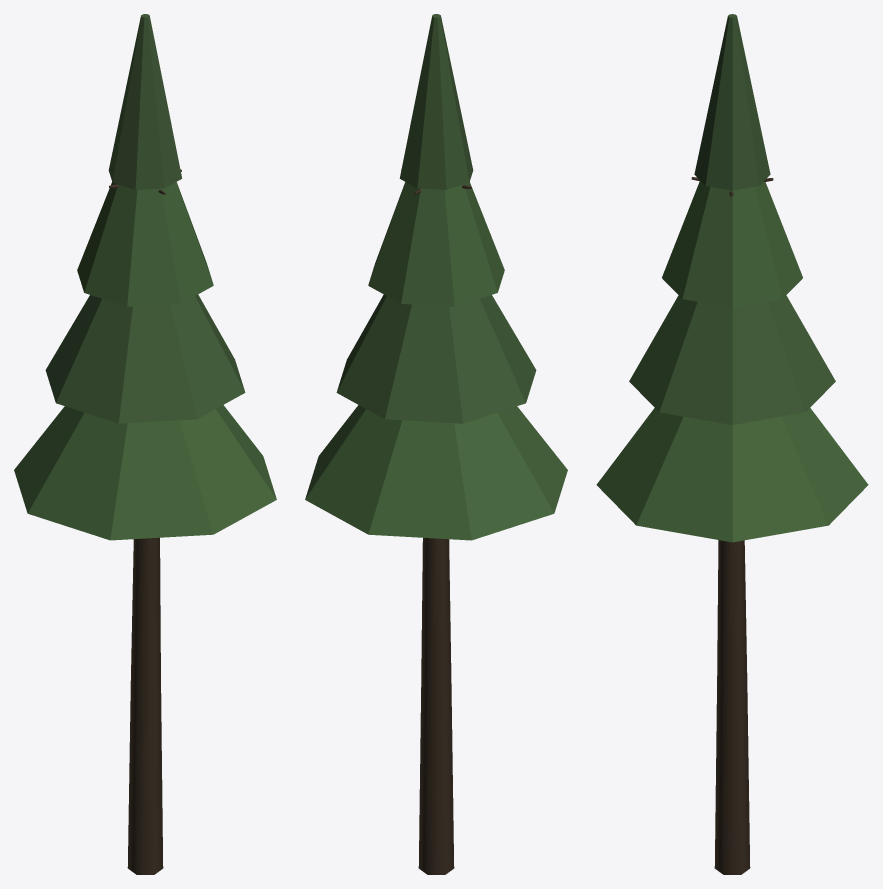
The model's file is land-forest-01.glb.
3 renders of one model, left to right at view 1: azimuth 30°, elevation 25°; view 2: azimuth 150°, elevation 25°; view 3: azimuth 270°, elevation 25°, orthographic.
Visible parts, largest first — view 1: land.forest.01; view 2: land.forest.01; view 3: land.forest.01.
Boxes of the visible parts, left/top/right/bottom form: land.forest.01: left=14, top=14, right=276, bottom=874; land.forest.01: left=305, top=14, right=567, bottom=874; land.forest.01: left=596, top=14, right=868, bottom=874.
Bounding box in the file's own units: 2.01 × 6.96 × 2.01.
